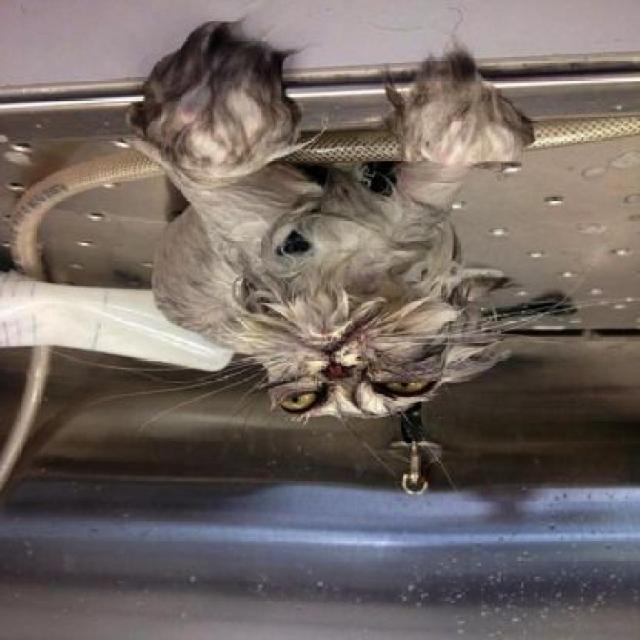cat: (95, 33, 533, 424)
